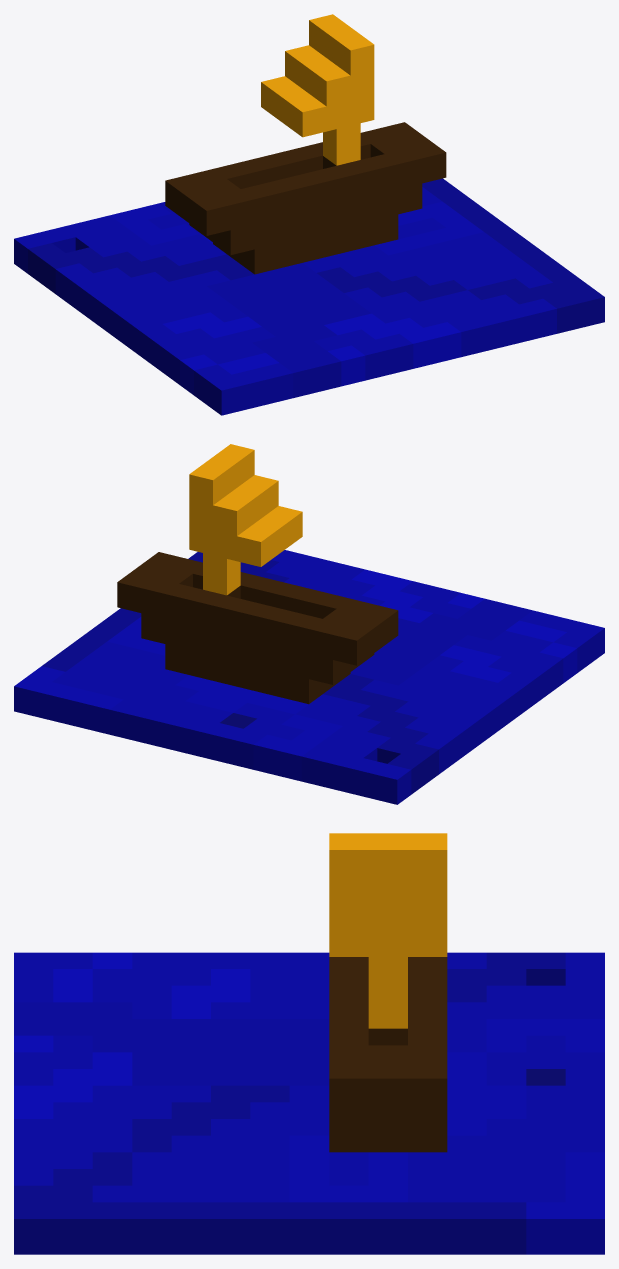
File: bar.obj
3 renders of one model, top to bottom at view 1: azimuth 30°, elevation 25°; view 2: azimuth 150°, elevation 25°; view 3: azimuth 270°, elevation 25°, orthographic. The views are drawn at different scales.
Parts seen in each view (by area): view 1: bar; view 2: bar; view 3: bar.
Boxes of the visible parts, <box> form: bar: <box>14,14,604,415</box>; bar: <box>14,444,604,804</box>; bar: <box>14,833,604,1254</box>.
Bounding box in the file's own units: 16 × 9 × 15.
